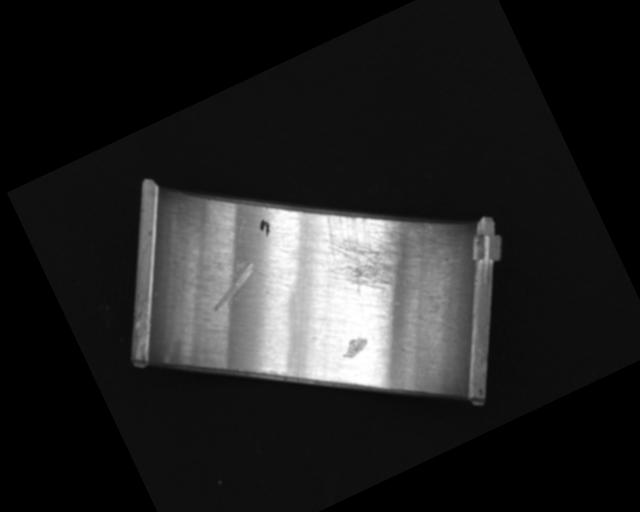blot: (256, 216, 274, 238)
bruise: (337, 332, 372, 361)
nick: (225, 201, 283, 284), (202, 259, 265, 311)
scratch: (304, 177, 445, 314)
